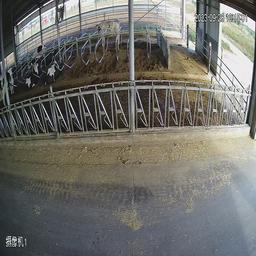cow: (94, 11, 124, 56), (22, 51, 42, 89), (1, 61, 17, 106), (44, 48, 63, 81)
